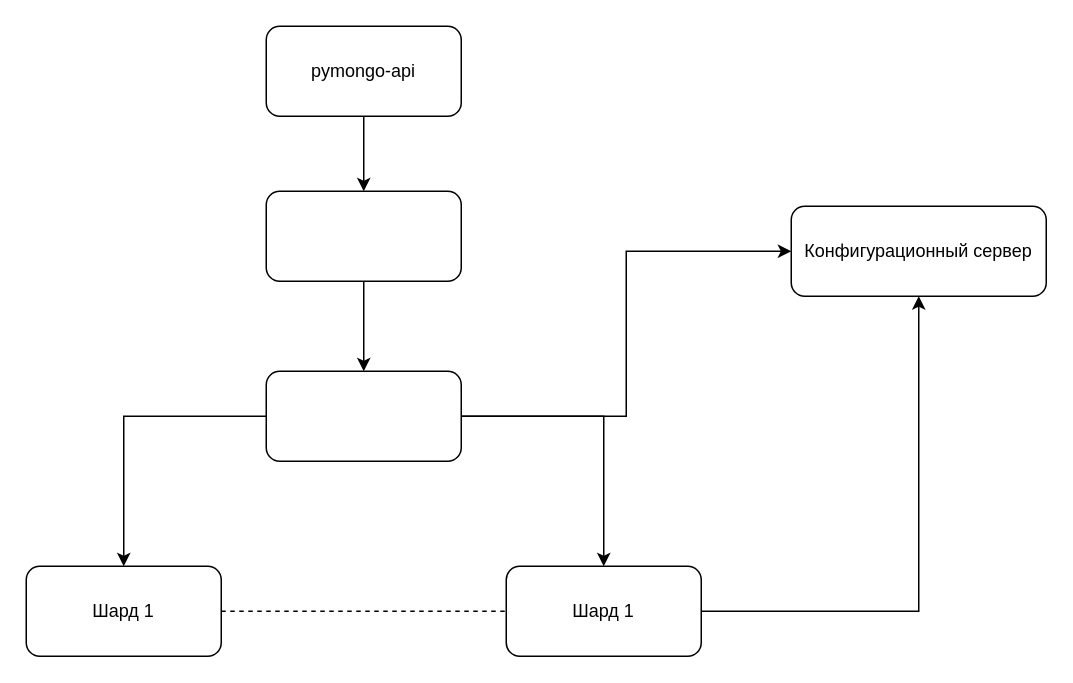
Image size: 1073x683. Some labels were removed from this diagram. Here are the shapes that lost their labels. From the top down, the centre of each, then its label:
At [363,235]: "Драйвер".
At [363,415]: "Роутер".
